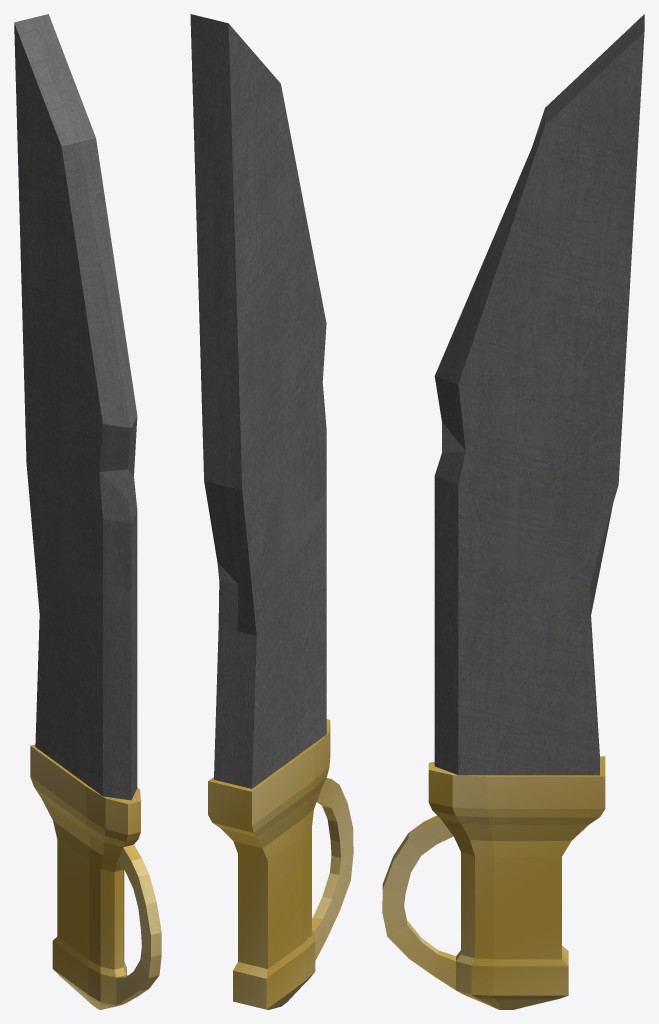
Rendered from Sword Pirate.fbx.
3 renders of one model, left to right at view 1: azimuth 30°, elevation 25°; view 2: azimuth 150°, elevation 25°; view 3: azimuth 270°, elevation 25°, orthographic. The views are drawn at different scales.
Parts seen in each view (by area): view 1: Sword; view 2: Sword; view 3: Sword.
Part boxes in pixels (bbox=[...]): Sword: bbox=[14, 14, 161, 1009]; Sword: bbox=[190, 14, 353, 1009]; Sword: bbox=[382, 14, 644, 1009].
Size of the model in its own units: 21.98 by 497 by 120.
